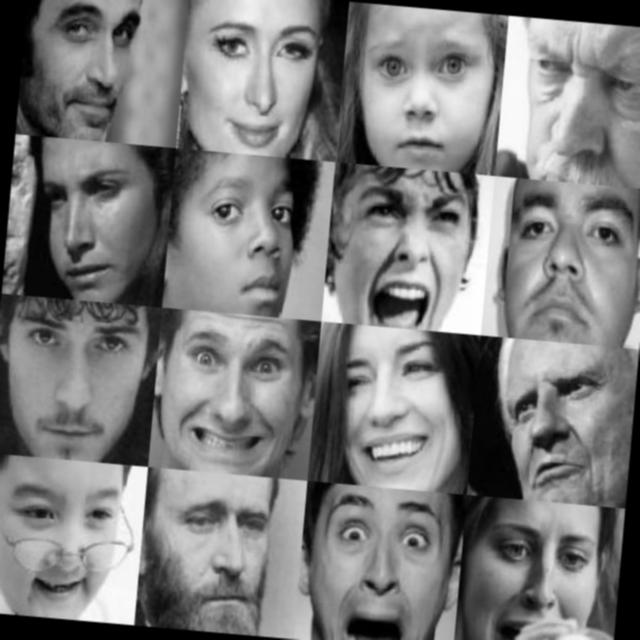angry: (338, 174, 486, 330)
fear: (320, 493, 440, 640), (358, 31, 485, 164), (477, 519, 604, 640)
happy: (169, 323, 304, 476), (328, 339, 468, 486), (194, 18, 320, 155), (8, 476, 131, 610), (52, 0, 149, 136)
neutral: (16, 306, 142, 454), (185, 170, 306, 306), (504, 359, 620, 496), (530, 41, 640, 183), (509, 206, 625, 337), (169, 491, 279, 626)
sad: (34, 160, 160, 292)
